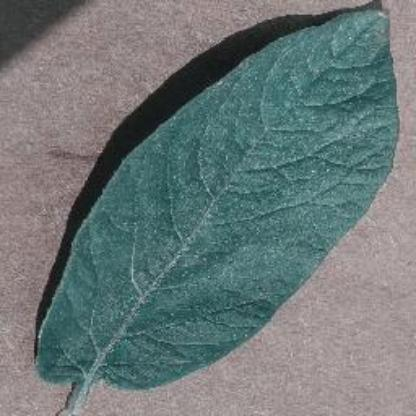Healthy-plant: (29, 4, 406, 416)
